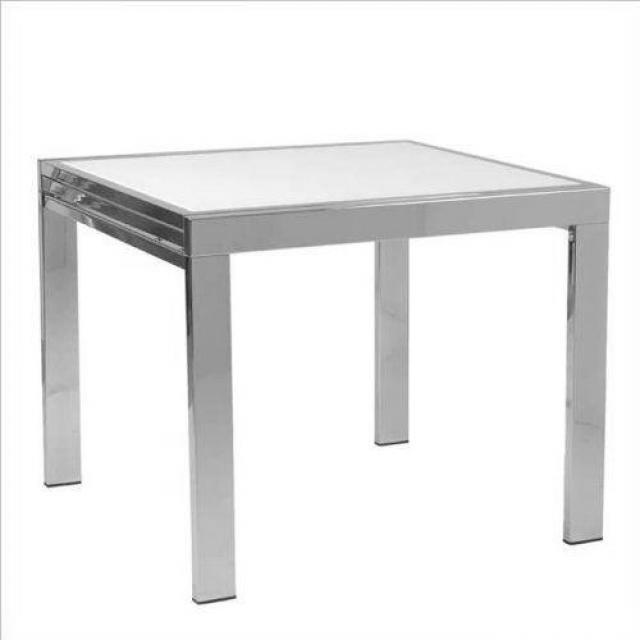table: (38, 138, 612, 606)
